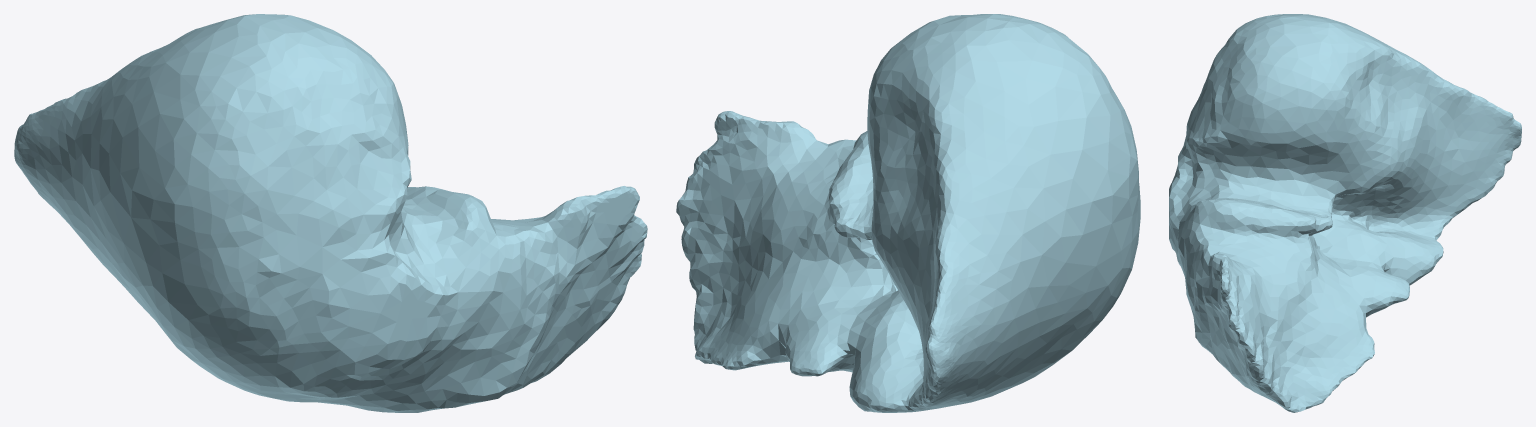
The model's file is liver.obj.
The picture shows the model from 3 angles, left to right: view 1: azimuth 30°, elevation 25°; view 2: azimuth 150°, elevation 25°; view 3: azimuth 270°, elevation 25°; orthographic projection. The views are drawn at different scales.
Parts seen in each view (by area): view 1: grp1; view 2: grp1; view 3: grp1.
Part boxes in pixels (x1,y1,x2,y2): grp1: [14, 14, 647, 412]; grp1: [676, 14, 1140, 412]; grp1: [1169, 14, 1521, 412].
Bounding box in the file's own units: 186 × 148 × 164.
